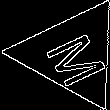M_NE: (34, 22, 109, 86)
